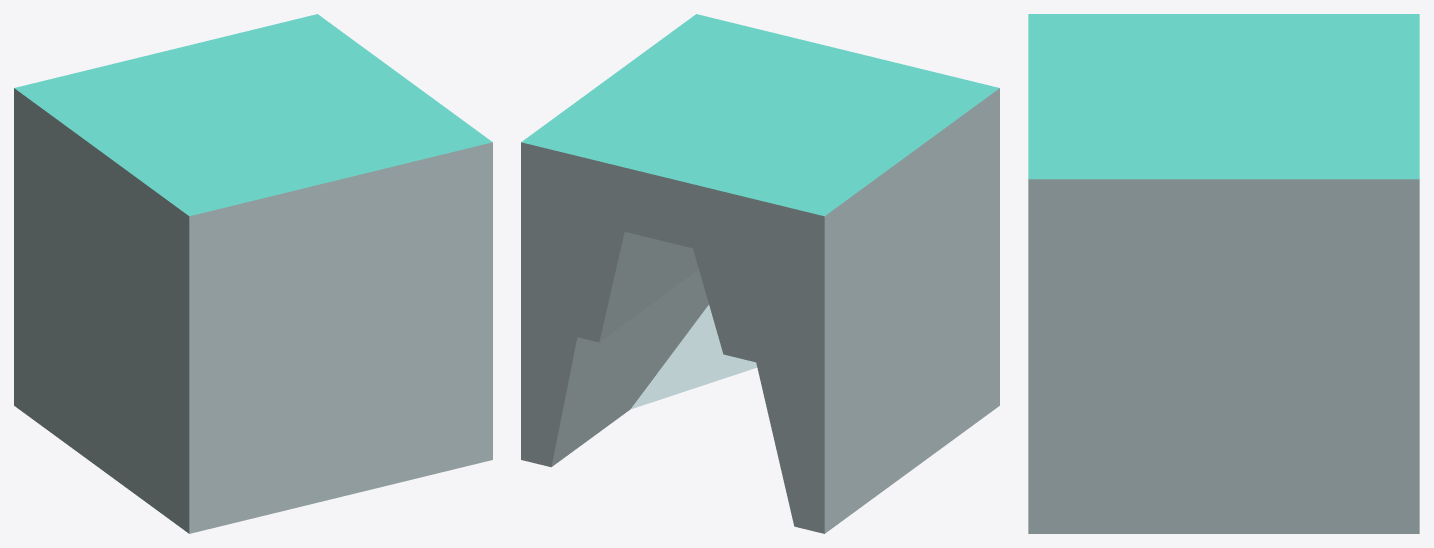
File: kenney-nature-cliff_blockCave_stone.glb
3 views of the same model, side by side, from view 1: azimuth 30°, elevation 25°; view 2: azimuth 150°, elevation 25°; view 3: azimuth 270°, elevation 25° (orthographic). The views are drawn at different scales.
Parts seen in each view (by area): view 1: cliff_blockCave_stone; view 2: cliff_blockCave_stone; view 3: cliff_blockCave_stone.
Part boxes in pixels (x1,y1,x2,y2): cliff_blockCave_stone: [14, 14, 492, 533]; cliff_blockCave_stone: [521, 14, 999, 533]; cliff_blockCave_stone: [1028, 14, 1419, 533].
Size of the model in its own units: 1 by 1 by 1.
